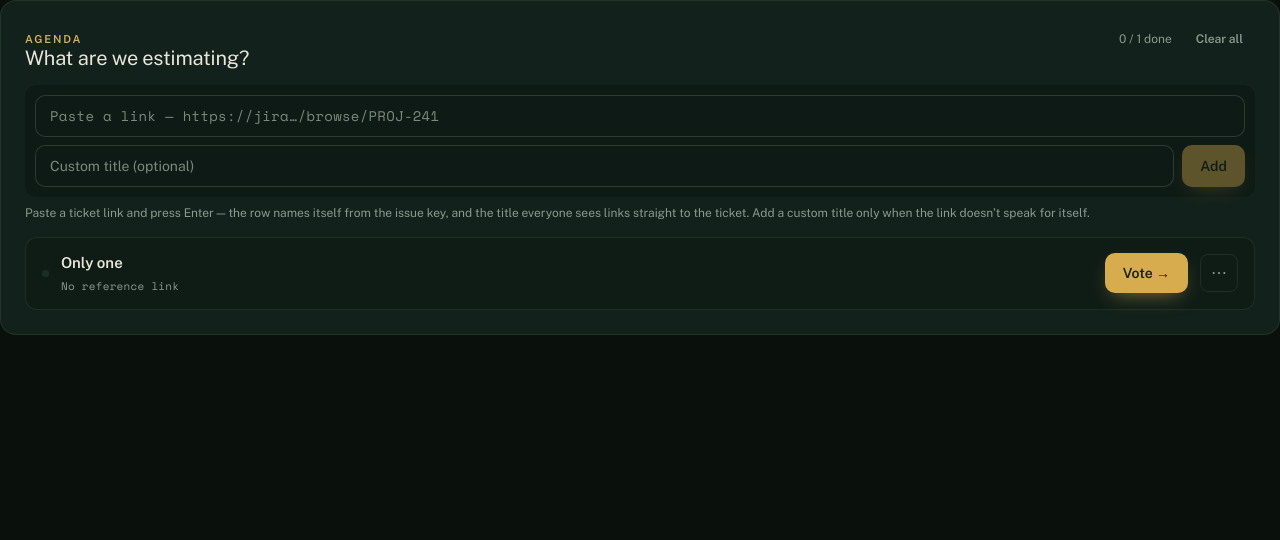
Test: Agenda › clear all › closes itself when the last row goes some other way
Click the button "Clear all" at (1219, 39), box x1=1184 y1=25 x2=1255 y2=53
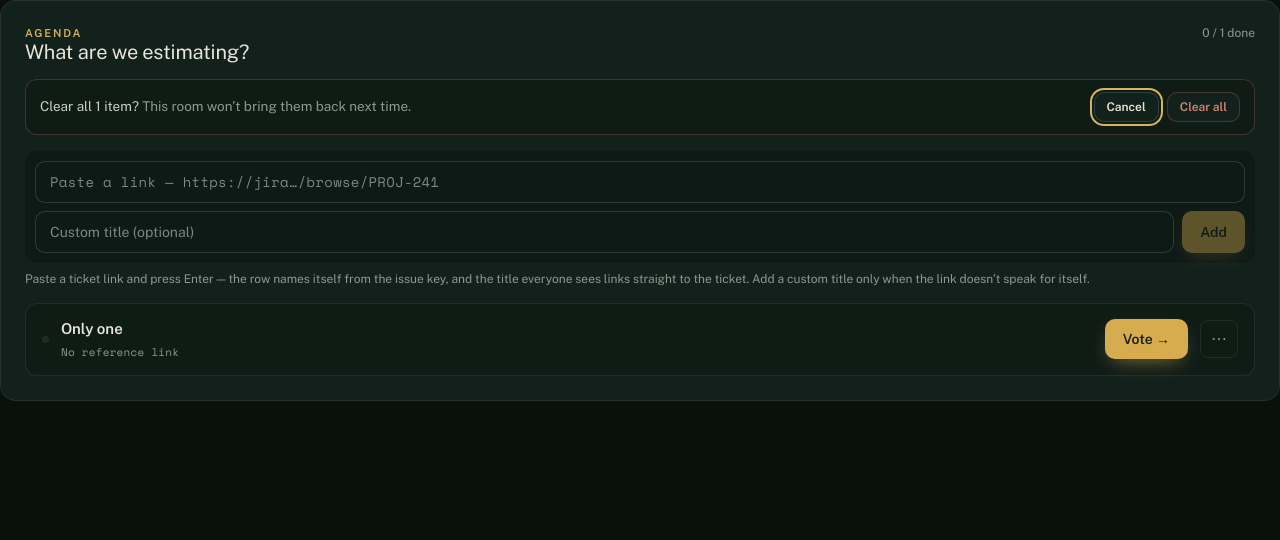
Click the button named "more actions" at (1219, 339), box x1=1200 y1=320 x2=1238 y2=358
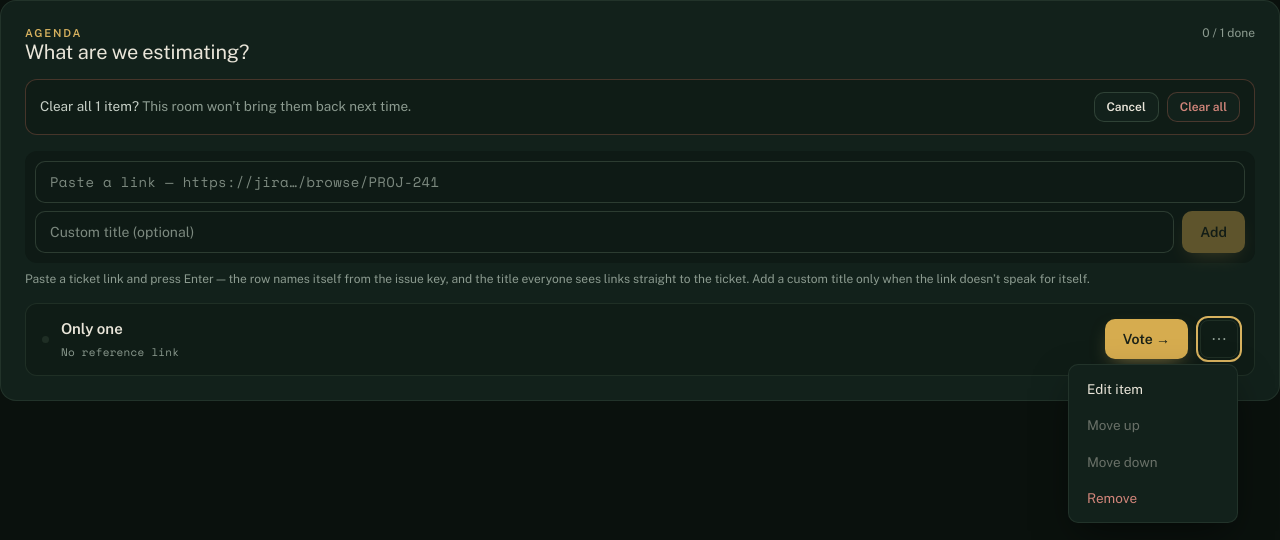
Click the button "Remove" at (1153, 498), box x1=1075 y1=480 x2=1231 y2=516
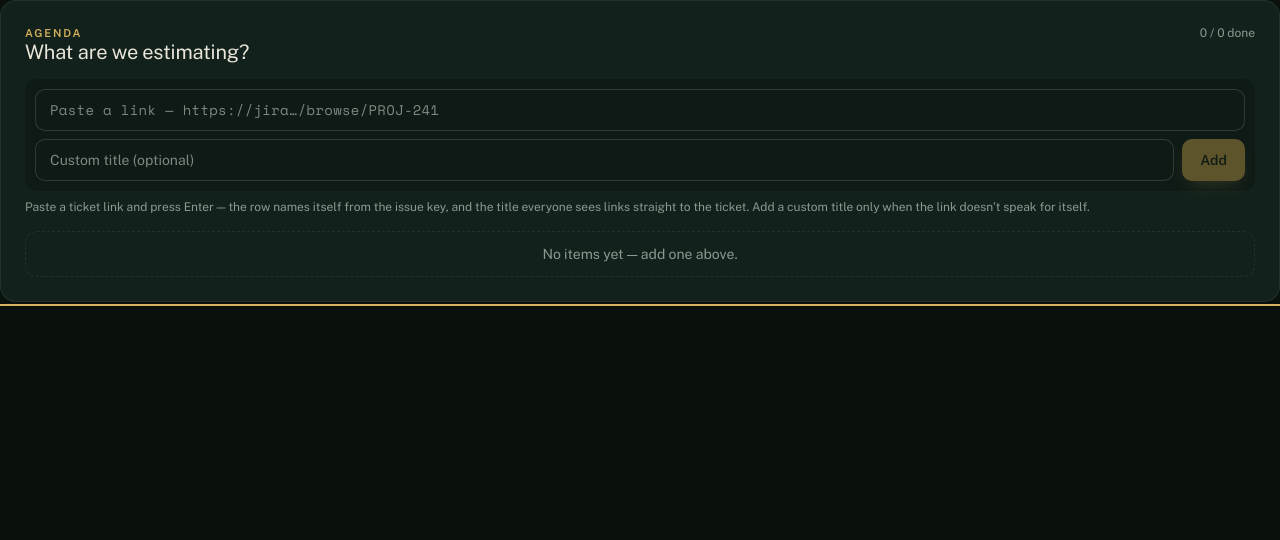
Expected: the text "won.t bring them back" is gone
Expected: the list item "No items yet — add one above." is shown, x1=25 y1=230 x2=1255 y2=276
